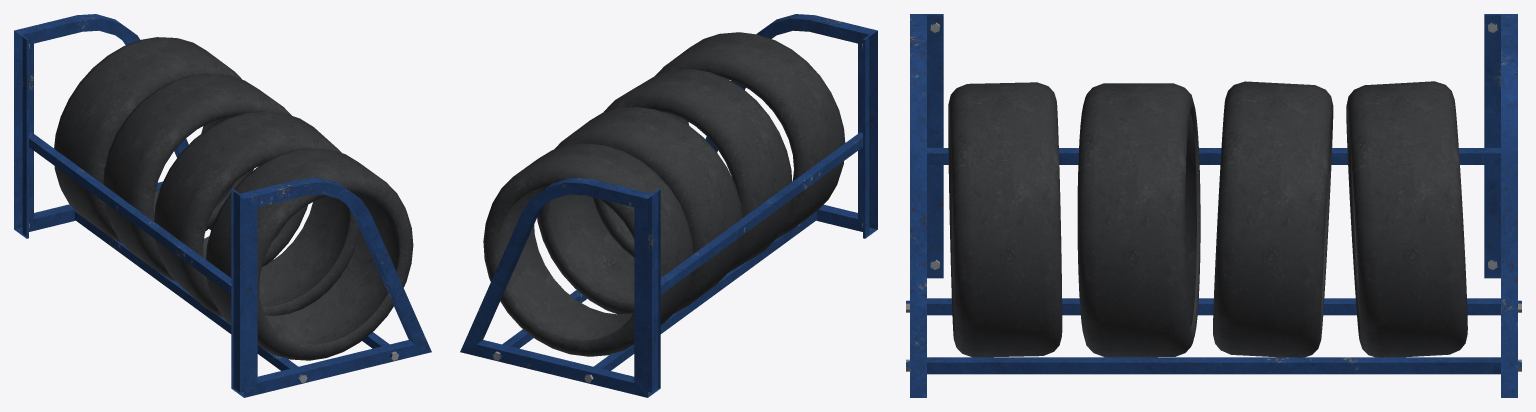
Rendered from CR_TireRack2.fbx.
The picture shows the model from 3 angles, left to right: view 1: azimuth 30°, elevation 25°; view 2: azimuth 150°, elevation 25°; view 3: azimuth 270°, elevation 25°; orthographic projection. The views are drawn at different scales.
Parts seen in each view (by area): view 1: Tires_1, Tires_Hanger; view 2: Tires_1, Tires_Hanger; view 3: Tires_1, Tires_Hanger.
Part boxes in pixels (x1,y1,x2,y2): Tires_1: [54, 37, 413, 360]; Tires_Hanger: [14, 14, 431, 397]; Tires_1: [483, 32, 845, 356]; Tires_Hanger: [460, 14, 877, 397]; Tires_1: [948, 81, 1467, 357]; Tires_Hanger: [906, 14, 1521, 397].
Size of the model in its own units: 69.14 by 69.06 by 145.
